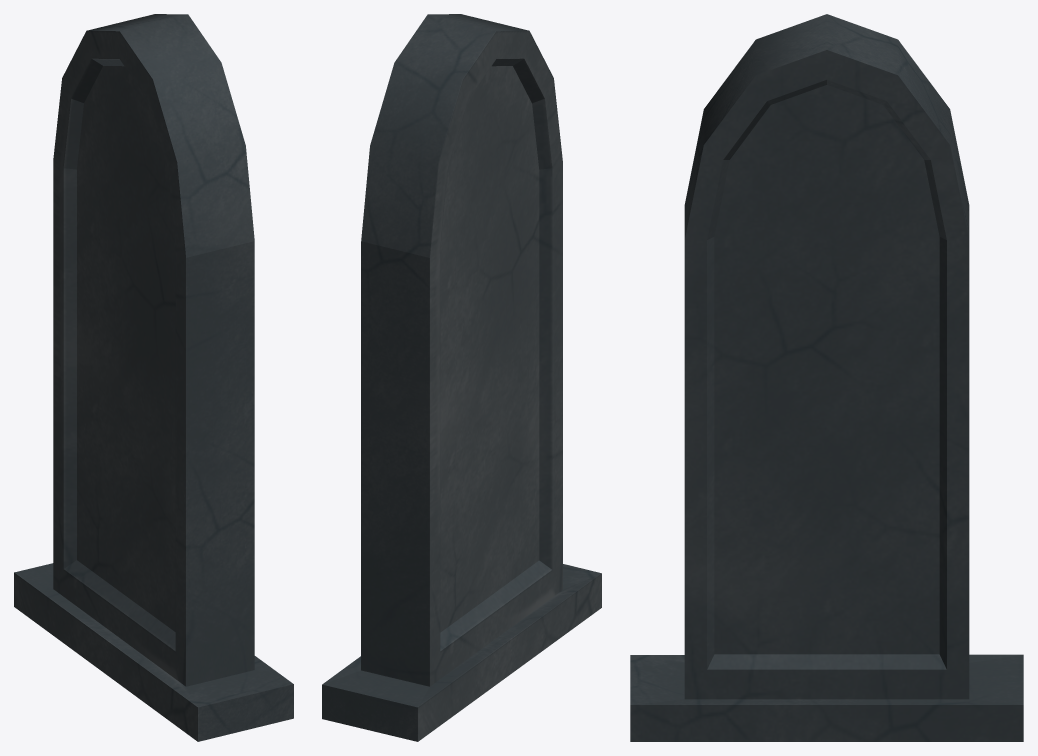
Rendered from Gravestone5_Model.fbx.
The picture shows the model from 3 angles, left to right: view 1: azimuth 30°, elevation 25°; view 2: azimuth 150°, elevation 25°; view 3: azimuth 270°, elevation 25°; orthographic projection. The views are drawn at different scales.
Parts seen in each view (by area): view 1: Gravestone5; view 2: Gravestone5; view 3: Gravestone5.
Part boxes in pixels (bbox=[...]): Gravestone5: bbox=[14, 14, 293, 741]; Gravestone5: bbox=[322, 14, 601, 741]; Gravestone5: bbox=[630, 14, 1023, 741].
Size of the model in its own units: 10.71 by 68.4 by 35.61.
